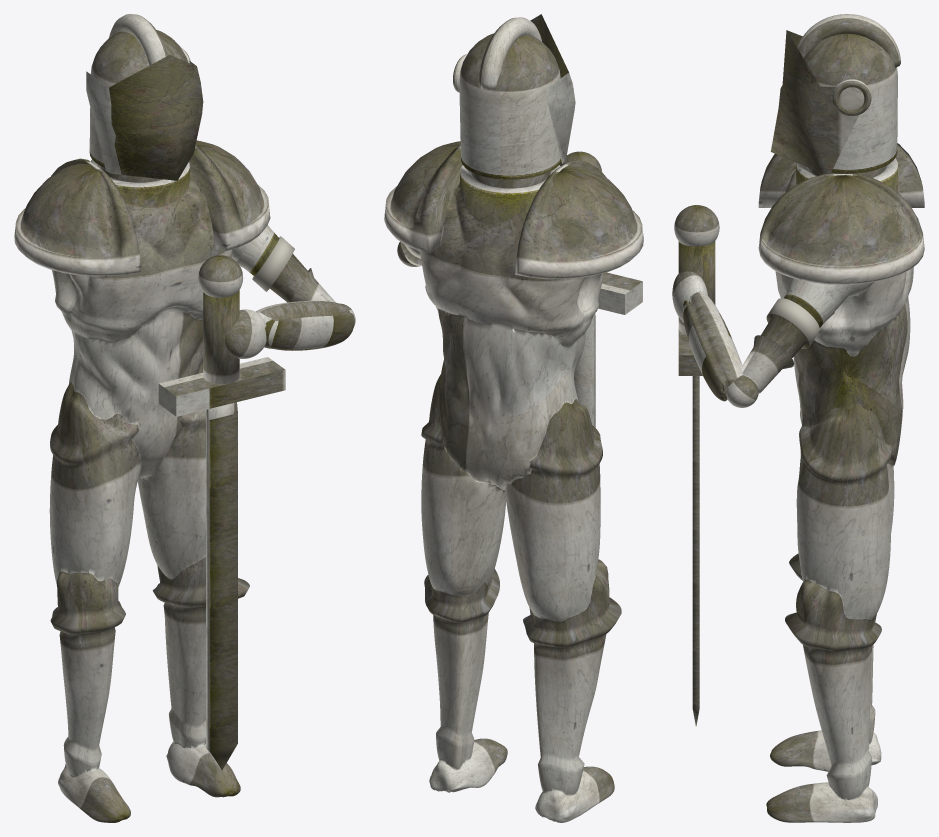
File: Knight statue.fbx
3 views of the same model, side by side, from view 1: azimuth 30°, elevation 25°; view 2: azimuth 150°, elevation 25°; view 3: azimuth 270°, elevation 25° (orthographic).
Parts seen in each view (by area): view 1: Cube.007; view 2: Cube.007; view 3: Cube.007.
Part boxes in pixels (bbox=[...]): Cube.007: bbox=[14, 14, 355, 822]; Cube.007: bbox=[384, 14, 643, 822]; Cube.007: bbox=[672, 14, 924, 822].
Bounding box in the file's own units: 191 × 500 × 148.
